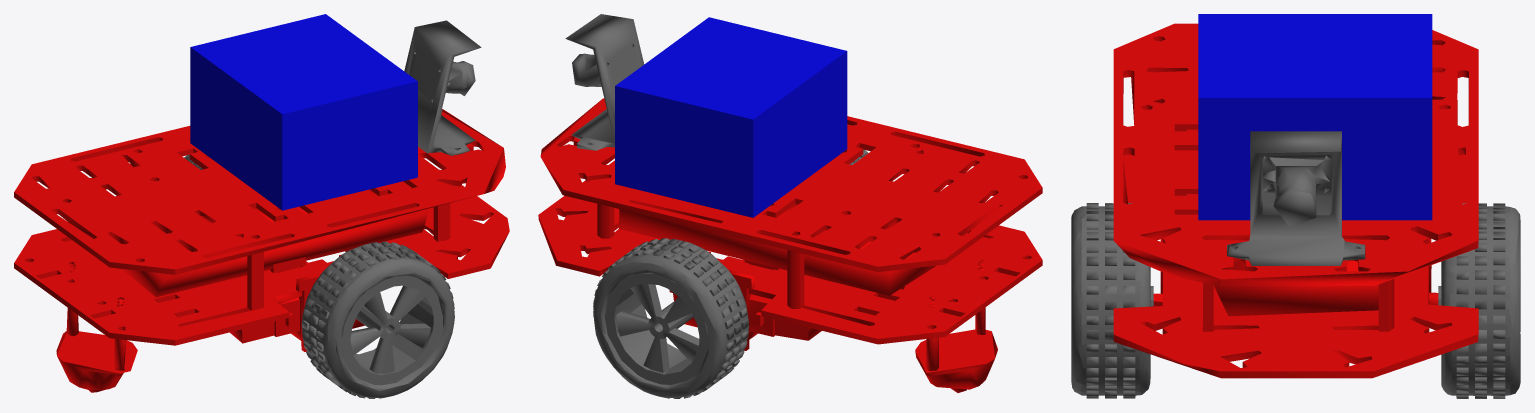
The model's file is duckiebot.dae.
The picture shows the model from 3 angles, left to right: view 1: azimuth 30°, elevation 25°; view 2: azimuth 150°, elevation 25°; view 3: azimuth 270°, elevation 25°; orthographic projection. The views are drawn at different scales.
Visible parts, largest first — view 1: chassis_package___duckiebot_description_meshes_duckiebotFram, Cube_Cube_001, right_wheel_package___duckiebot_description_meshes_duckiebot, camera_package___duckiebot_description_meshes_duckiebot_came; view 2: chassis_package___duckiebot_description_meshes_duckiebotFram, Cube_Cube_001, left_wheel_package___duckiebot_description_meshes_duckiebot_, camera_package___duckiebot_description_meshes_duckiebot_came; view 3: chassis_package___duckiebot_description_meshes_duckiebotFram, Cube_Cube_001, camera_package___duckiebot_description_meshes_duckiebot_came, left_wheel_package___duckiebot_description_meshes_duckiebot_, right_wheel_package___duckiebot_description_meshes_duckiebot.
Boxes of the visible parts, x1=… form: chassis_package___duckiebot_description_meshes_duckiebotFram: x1=14, y1=109, x2=509, y2=392; Cube_Cube_001: x1=190, y1=14, x2=417, y2=210; right_wheel_package___duckiebot_description_meshes_duckiebot: x1=301, y1=241, x2=454, y2=398; camera_package___duckiebot_description_meshes_duckiebot_came: x1=404, y1=20, x2=481, y2=155; chassis_package___duckiebot_description_meshes_duckiebotFram: x1=538, y1=98, x2=1042, y2=392; Cube_Cube_001: x1=615, y1=17, x2=847, y2=217; left_wheel_package___duckiebot_description_meshes_duckiebot_: x1=593, y1=238, x2=749, y2=398; camera_package___duckiebot_description_meshes_duckiebot_came: x1=565, y1=14, x2=644, y2=150; chassis_package___duckiebot_description_meshes_duckiebotFram: x1=1113, y1=23, x2=1478, y2=378; Cube_Cube_001: x1=1198, y1=14, x2=1432, y2=220; camera_package___duckiebot_description_meshes_duckiebot_came: x1=1227, y1=131, x2=1365, y2=265; left_wheel_package___duckiebot_description_meshes_duckiebot_: x1=1438, y1=203, x2=1520, y2=398; right_wheel_package___duckiebot_description_meshes_duckiebot: x1=1071, y1=203, x2=1153, y2=398.
Size of the model in its own units: 0.1998 by 0.1472 by 0.123.
